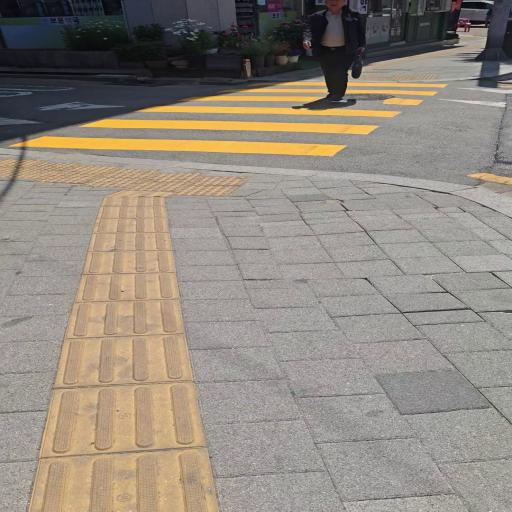yellow-crosswalk: (0, 70, 471, 162)
